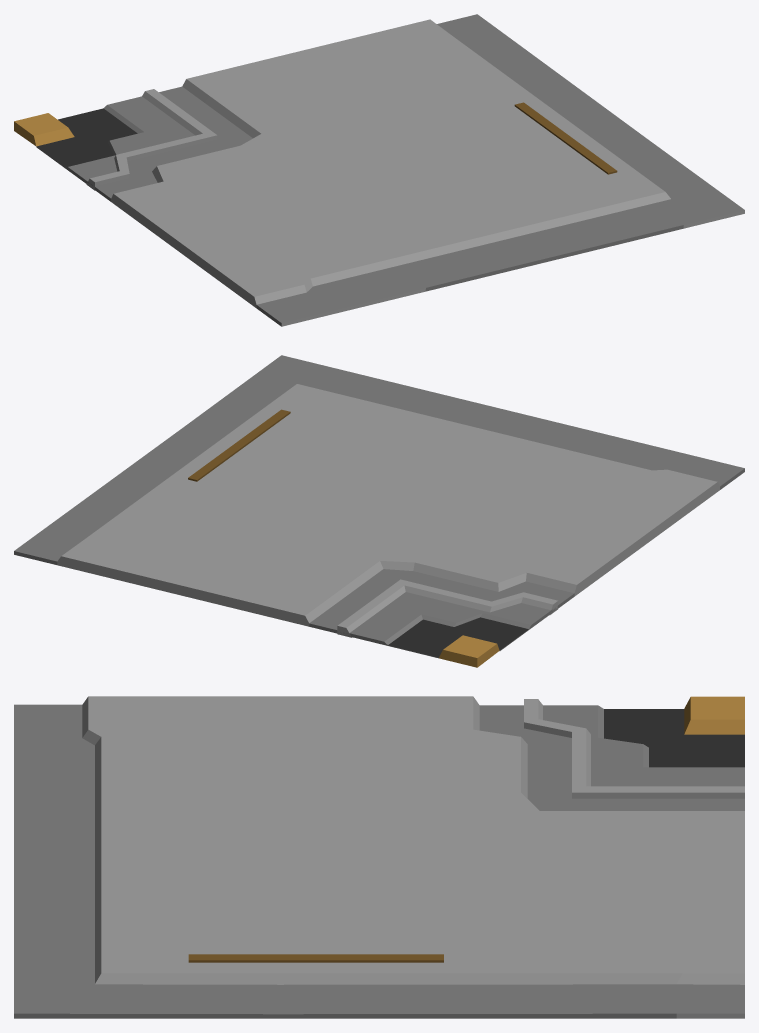
The model's file is FloorTile_InnerCorner.glb.
The picture shows the model from 3 angles, top to bottom: view 1: azimuth 30°, elevation 25°; view 2: azimuth 150°, elevation 25°; view 3: azimuth 270°, elevation 25°; orthographic projection. The views are drawn at different scales.
Parts seen in each view (by area): view 1: FloorTile_InnerCorner; view 2: FloorTile_InnerCorner; view 3: FloorTile_InnerCorner.
Boxes of the visible parts, x1,y1,x2,y2 form: FloorTile_InnerCorner: [14, 14, 744, 326]; FloorTile_InnerCorner: [14, 355, 744, 667]; FloorTile_InnerCorner: [14, 696, 744, 1018].
Bounding box in the file's own units: 0.68 × 0.0173 × 0.68.
